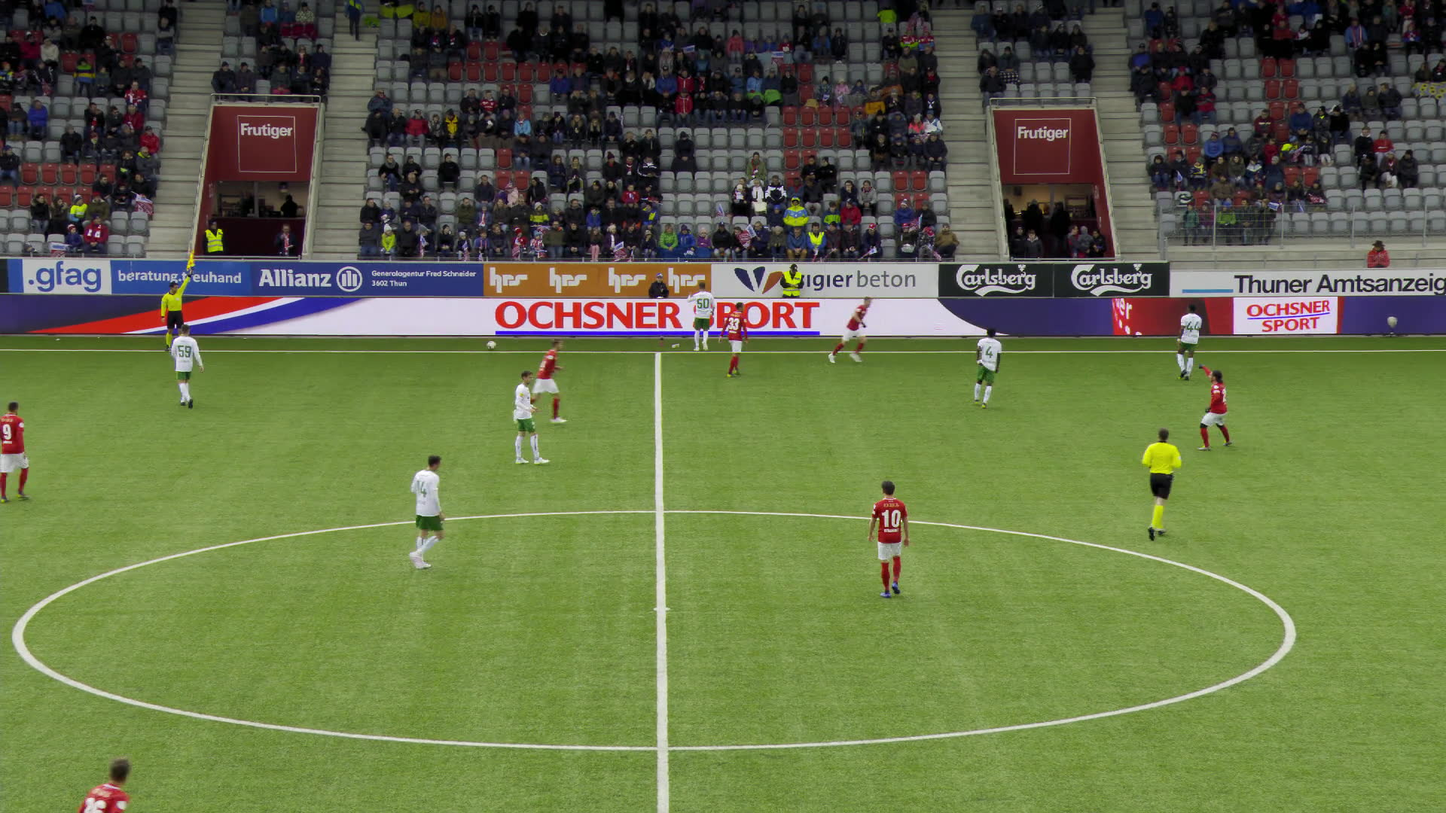ball: (487, 338, 500, 349)
player: (868, 480, 911, 598), (406, 453, 445, 573), (520, 339, 564, 425), (512, 370, 550, 464), (1196, 358, 1233, 450), (1, 400, 32, 504), (825, 295, 871, 364), (73, 760, 130, 812), (169, 323, 203, 410), (971, 326, 1002, 409), (717, 300, 748, 377), (1173, 303, 1203, 380), (685, 280, 715, 351)
referee: (1139, 430, 1179, 538), (161, 248, 195, 352)
